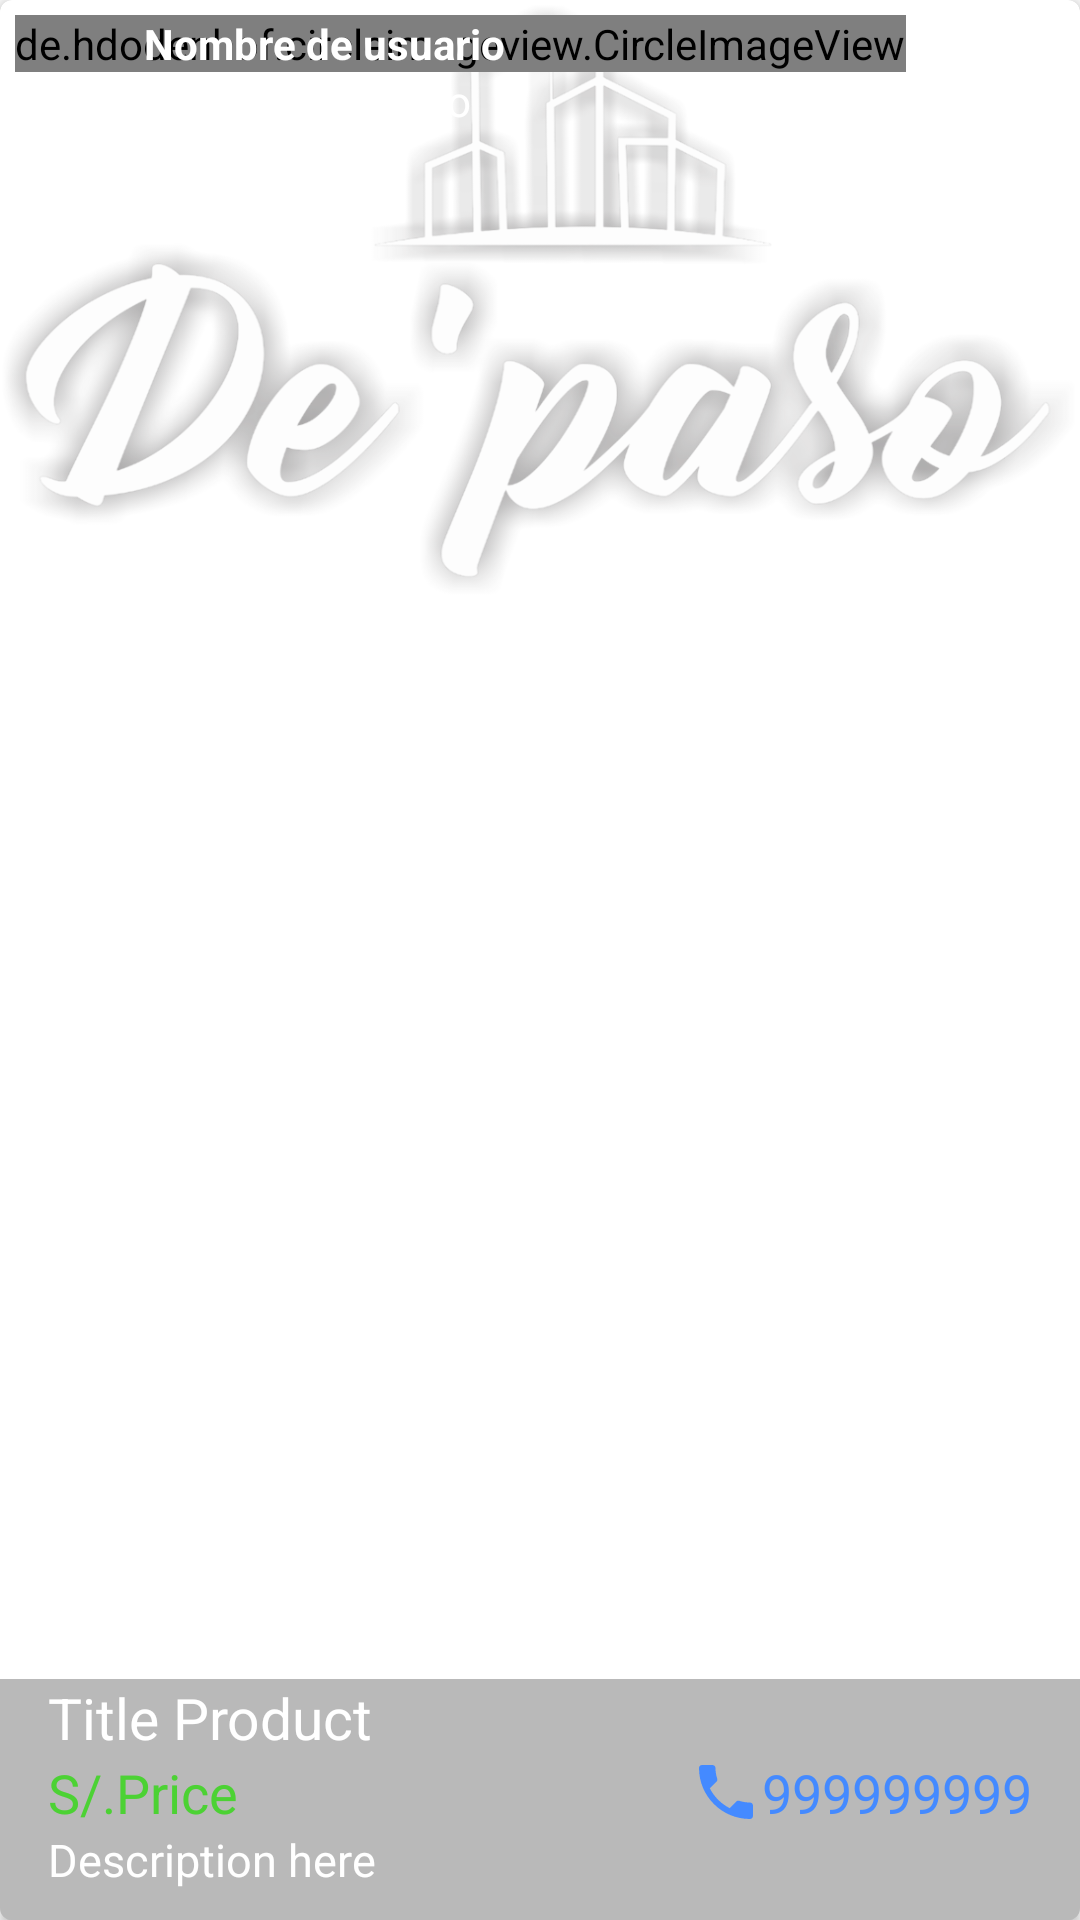

Named icons in this screenshot (1080*1920) and their centers, (x=x, y=y):
phone: (x=726, y=1792)
